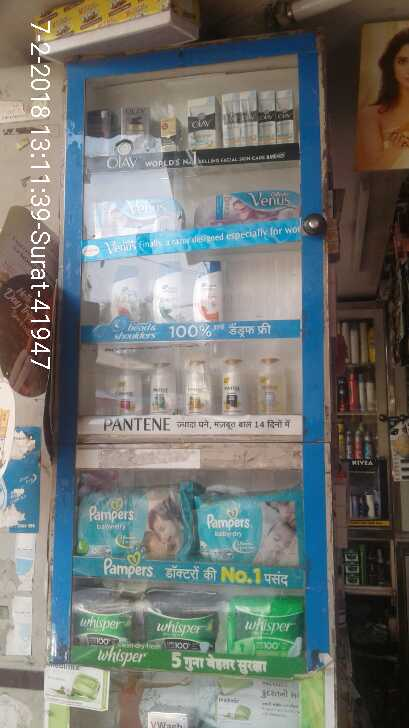venus: (196, 186, 300, 229), (85, 199, 186, 238)
